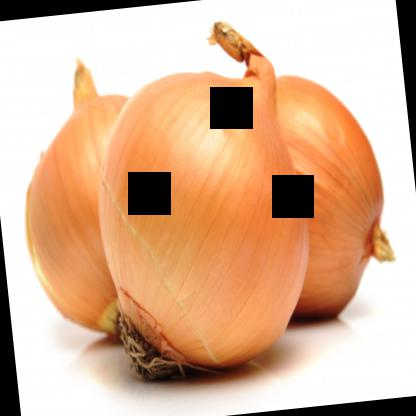onion: (84, 23, 322, 380), (14, 67, 155, 357), (256, 63, 398, 326)
